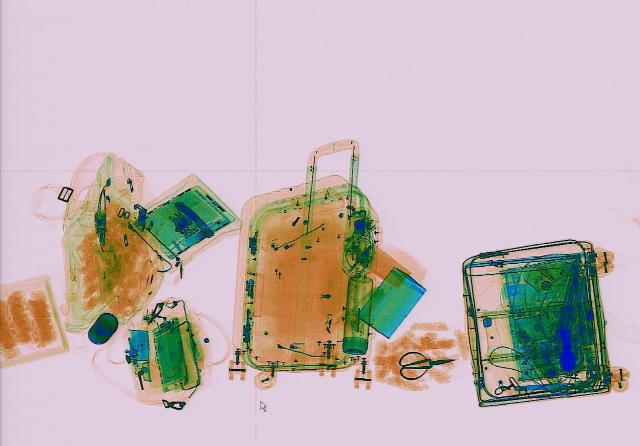Scissors: (392, 344, 458, 379)
